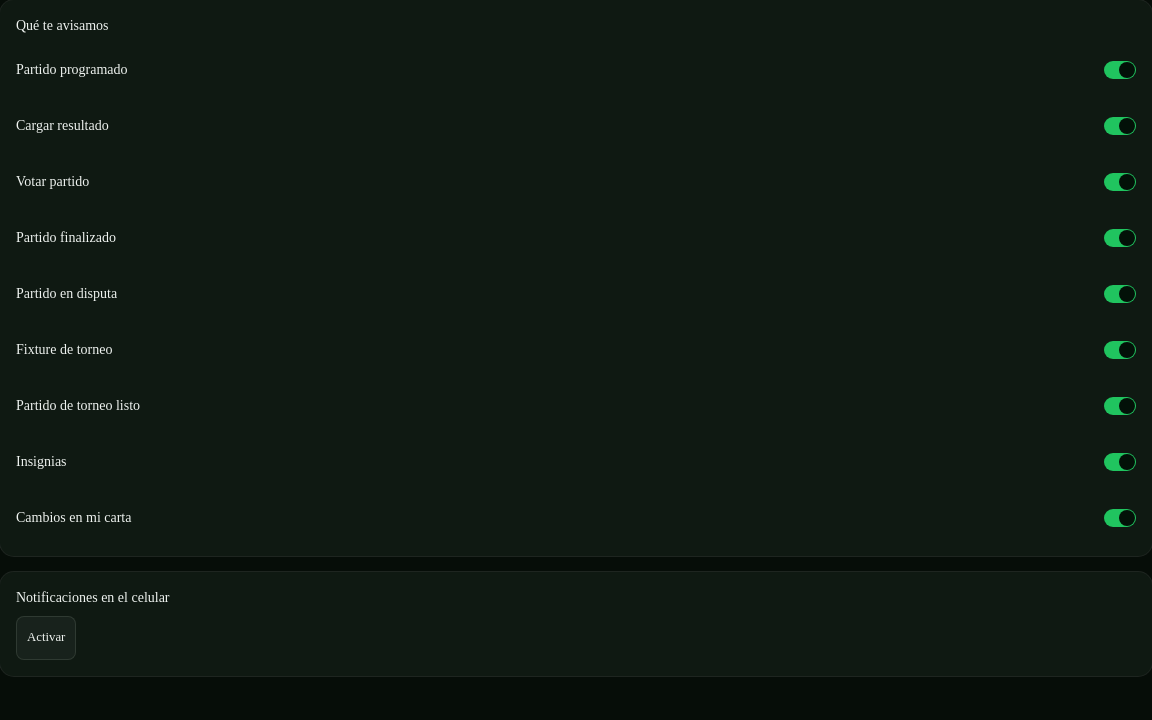
Test: PrefsForm push section states › shows an enable button by default and enables push on click
The image size is (1152, 720).
Click the button "Activar" at [46, 638], box [16,616,76,660]
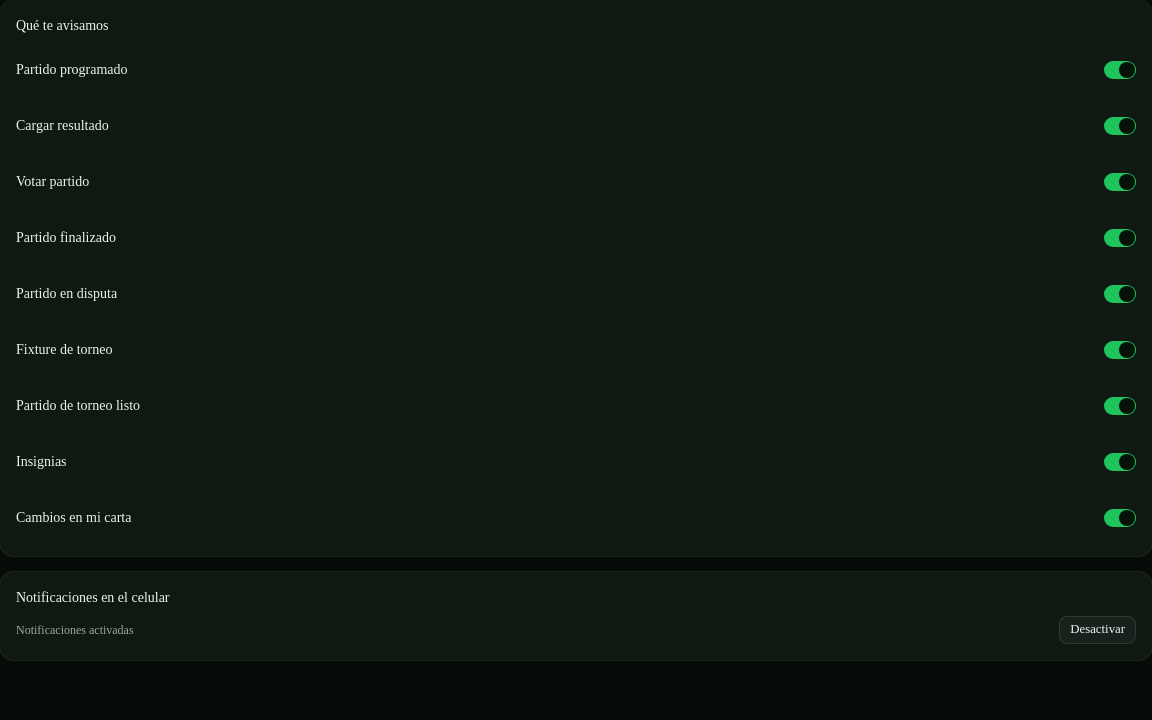
Now the text "Notificaciones activadas" is shown, box [16,622,134,638]
